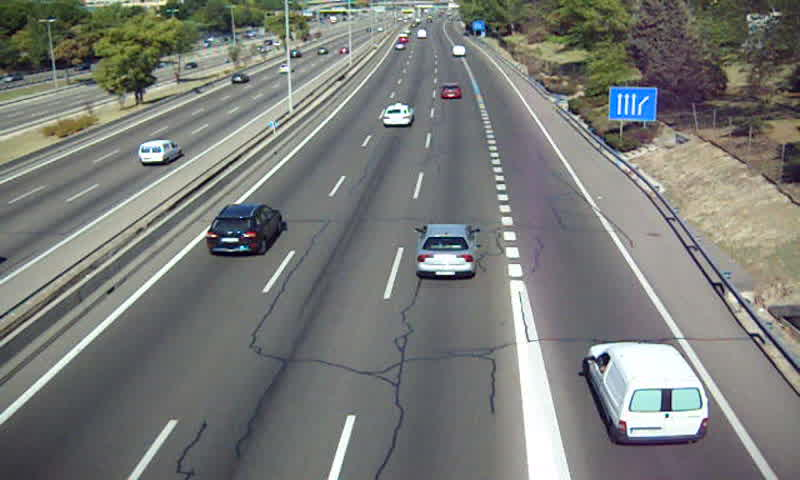car: (206, 204, 281, 256), (417, 224, 478, 278), (382, 104, 413, 126), (441, 83, 462, 100)
van: (585, 342, 709, 443)
